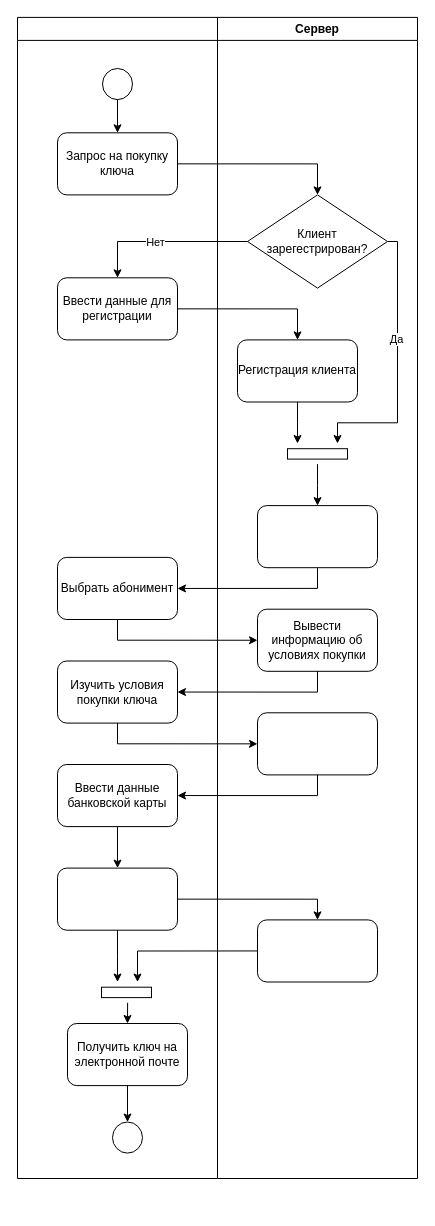
Some shapes in this 435 by 1226 pixel diagram are drawn without their labels. Each missing label, with the box of its shape:
Вывести общую информацию об ключах: (256, 505, 378, 568)
Выслать оплаченный ключ на электронную почту: (256, 919, 378, 982)
Выставить счёт на оплату: (256, 712, 378, 775)
Клиент: (16, 16, 218, 1178)
Оплатить ключ: (56, 867, 178, 930)
